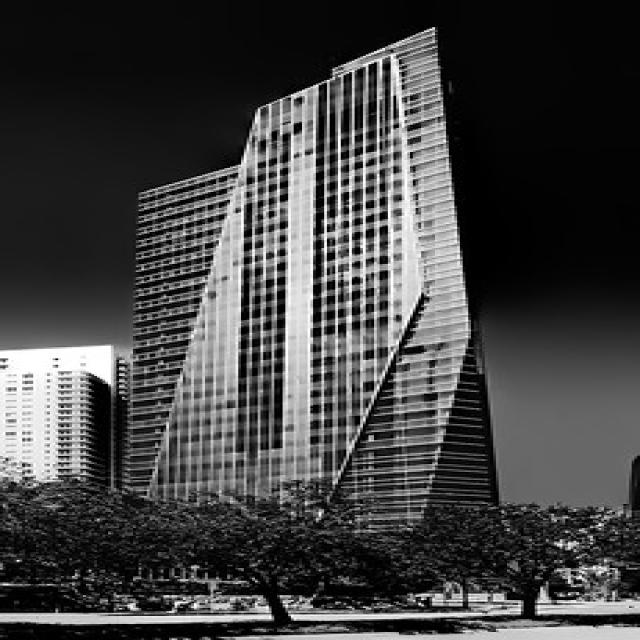building: (115, 22, 508, 606)
